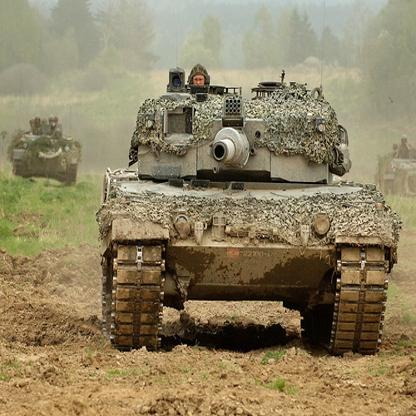Tank: (99, 73, 404, 360), (8, 114, 86, 186)
